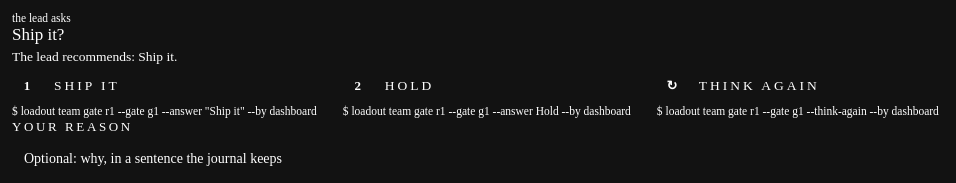
Scenario: Gate › sends the answer pressed, and says so once it is taken
Click the button "2 Hold" at (390, 86), box [343,71,438,101]
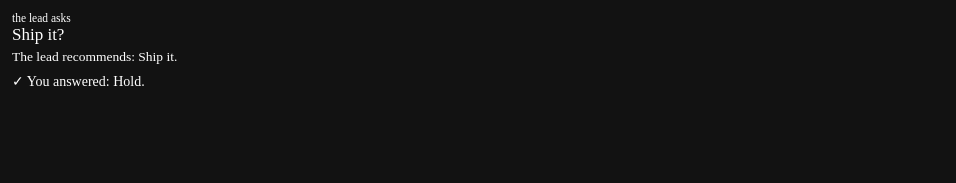
Result: the message reads "✓ You answered: Hold." at [12,74,145,89]
